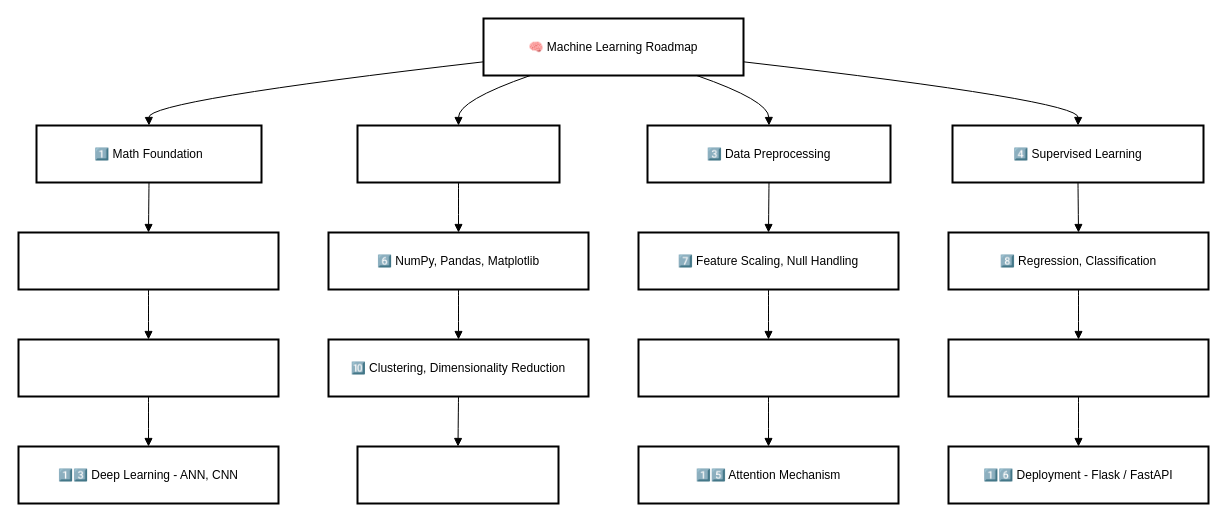
Some shapes in this 1226 by 521 pixel diagram are drawn without their labels. The shapes that lost their labels are listed below. From the top down, each one's centre as x and y in pixels, then its label:
At (458,153): "2️⃣ Python for ML".
At (148,260): "5️⃣ Linear Algebra & Probability".
At (148,367): "9️⃣ Unsupervised Learning".
At (768,367): "1️⃣1️⃣ Model Evaluation - Accuracy, F1".
At (1078,367): "1️⃣2️⃣ Hyperparameter Tuning".
At (457,474): "1️⃣4️⃣ RNN, LSTM".
